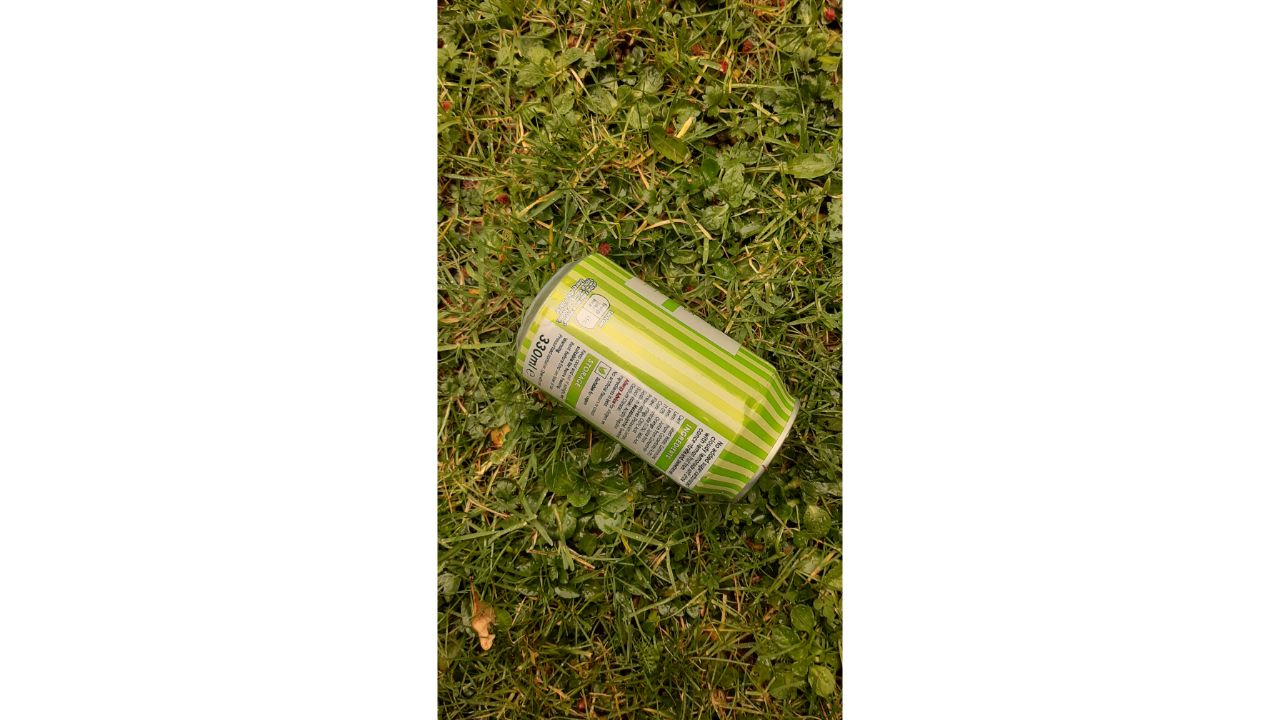Can: (497, 237, 811, 508)
